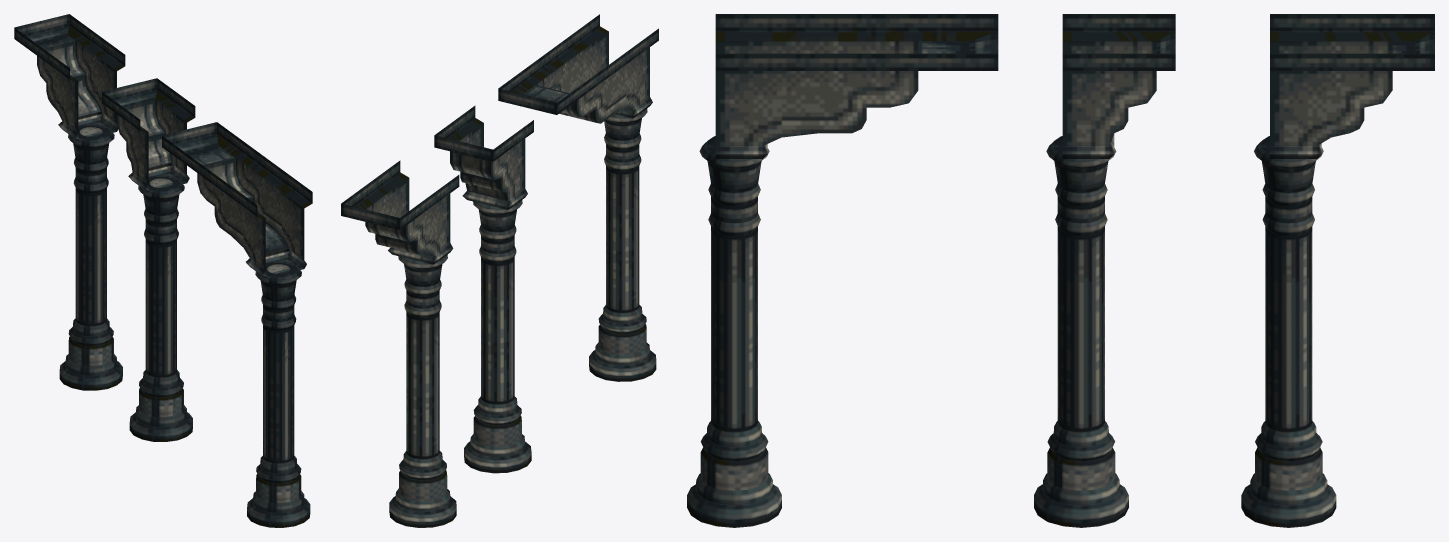
The model's file is EnvMdrMD_Daiseidou_B_WallPillar_A_100W550H.FBX.
3 renders of one model, left to right at view 1: azimuth 30°, elevation 25°; view 2: azimuth 150°, elevation 25°; view 3: azimuth 270°, elevation 25°, orthographic. The views are drawn at different scales.
Visible parts, largest first — view 1: EnvMdrMD_Daiseidou_B_WallPillar_A_300W550H, EnvMdrMD_Daiseidou_B_WallPillar_A_150W550H, EnvMdrMD_Daiseidou_B_WallPillar_A_100W550H; view 2: EnvMdrMD_Daiseidou_B_WallPillar_A_300W550H, EnvMdrMD_Daiseidou_B_WallPillar_A_150W550H, EnvMdrMD_Daiseidou_B_WallPillar_A_100W550H; view 3: EnvMdrMD_Daiseidou_B_WallPillar_A_300W550H, EnvMdrMD_Daiseidou_B_WallPillar_A_150W550H, EnvMdrMD_Daiseidou_B_WallPillar_A_100W550H.
Boxes of the visible parts, x1,y1,x2,y2 form: EnvMdrMD_Daiseidou_B_WallPillar_A_300W550H: (162, 122, 312, 527); EnvMdrMD_Daiseidou_B_WallPillar_A_150W550H: (14, 14, 125, 390); EnvMdrMD_Daiseidou_B_WallPillar_A_100W550H: (102, 78, 195, 441); EnvMdrMD_Daiseidou_B_WallPillar_A_300W550H: (498, 14, 658, 381); EnvMdrMD_Daiseidou_B_WallPillar_A_150W550H: (341, 160, 459, 527); EnvMdrMD_Daiseidou_B_WallPillar_A_100W550H: (434, 105, 533, 473); EnvMdrMD_Daiseidou_B_WallPillar_A_300W550H: (687, 14, 998, 527); EnvMdrMD_Daiseidou_B_WallPillar_A_150W550H: (1241, 14, 1434, 527); EnvMdrMD_Daiseidou_B_WallPillar_A_100W550H: (1034, 14, 1175, 527).
Size of the model in its own units: 101 by 555 by 794.
Materials: 2 (2 with a texture image).
